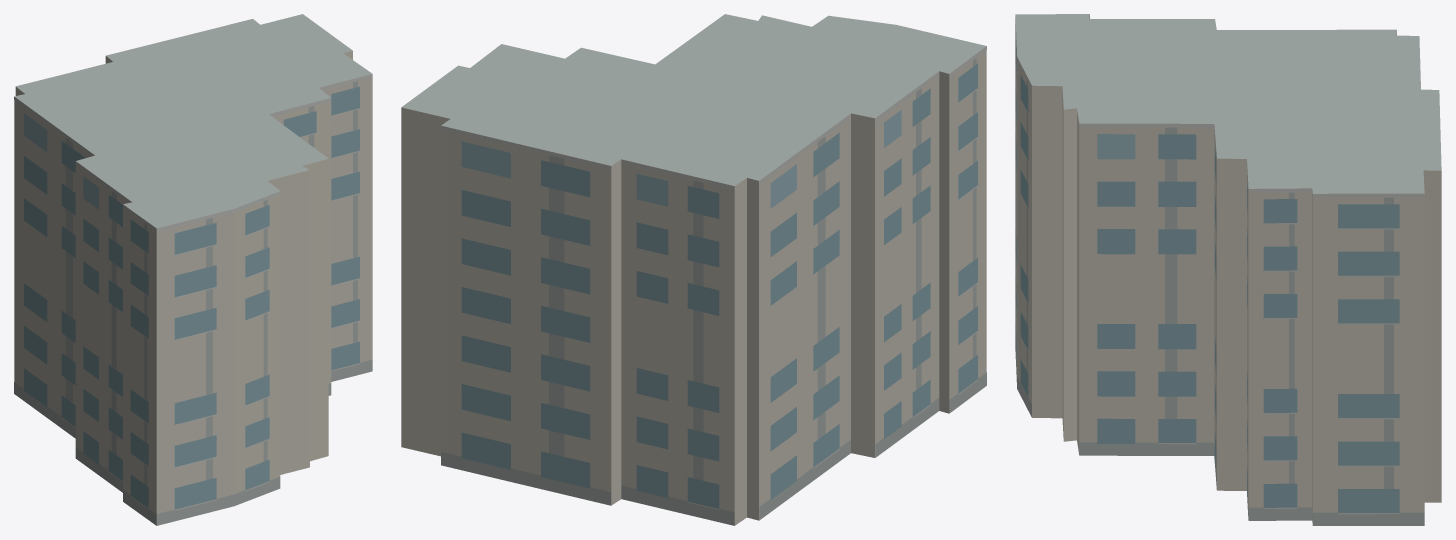
The model's file is survey-upis-32654783.glb.
3 renders of one model, left to right at view 1: azimuth 30°, elevation 25°; view 2: azimuth 150°, elevation 25°; view 3: azimuth 270°, elevation 25°, orthographic. The views are drawn at different scales.
Visible parts, largest first — view 1: survey-upis-32654783.tmp; view 2: survey-upis-32654783.tmp; view 3: survey-upis-32654783.tmp.
Boxes of the visible parts, <box> form: survey-upis-32654783.tmp: <box>14,14,372,525</box>; survey-upis-32654783.tmp: <box>401,14,986,525</box>; survey-upis-32654783.tmp: <box>1015,14,1441,525</box>.
Bounding box in the file's own units: 23.59 × 20.3 × 23.62.
